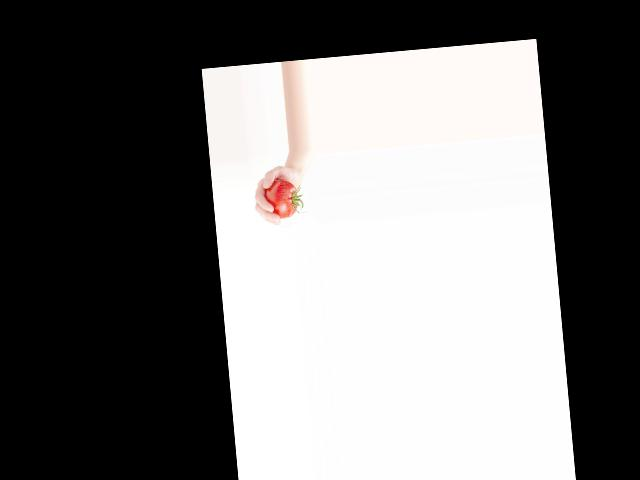tomato: (263, 179, 299, 219)
